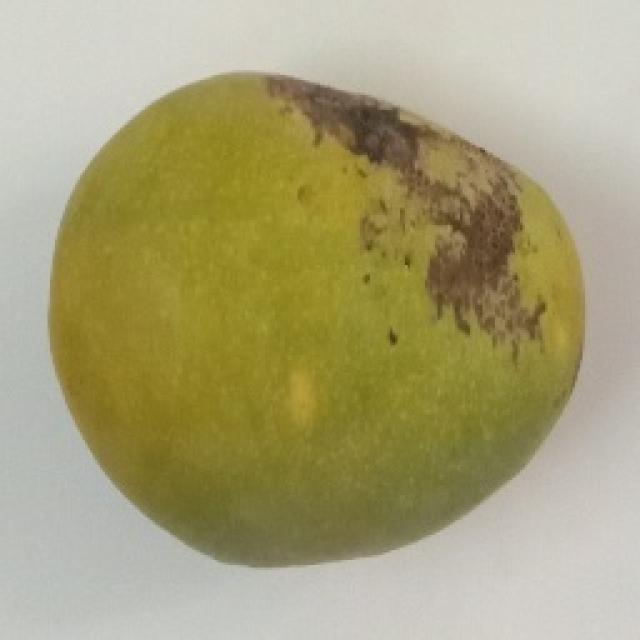defective: (45, 68, 585, 568)
